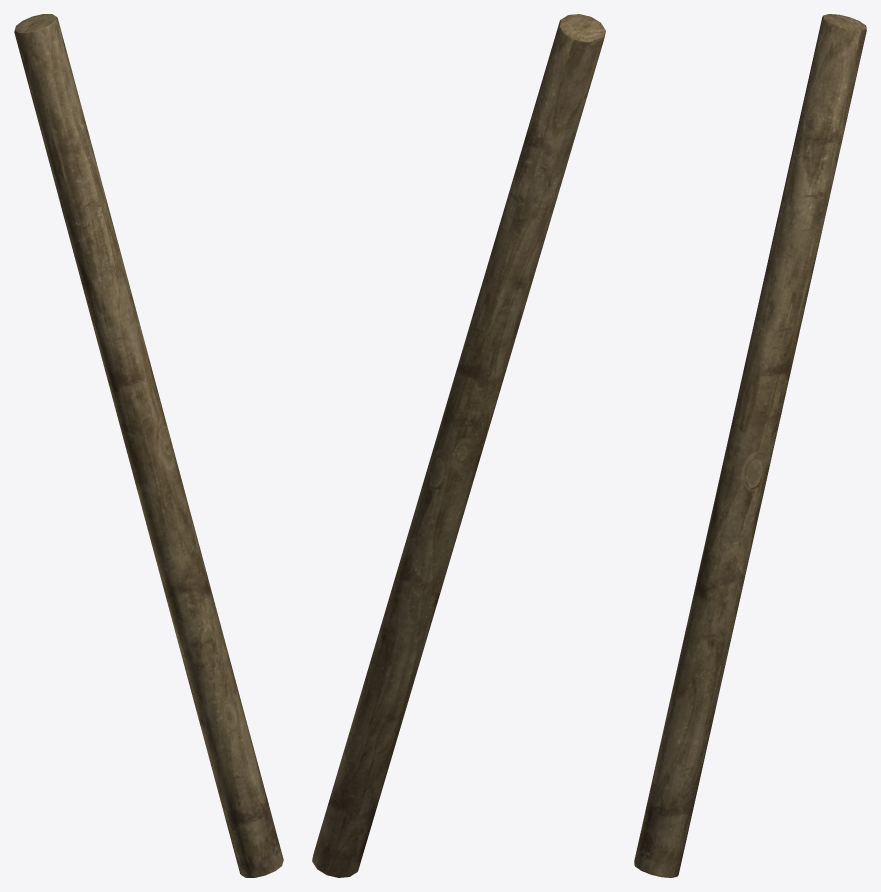
3 renders of one model, left to right at view 1: azimuth 30°, elevation 25°; view 2: azimuth 210°, elevation 25°; view 3: azimuth 270°, elevation 25°, orthographic. The views are drawn at different scales.
Parts seen in each view (by area): view 1: Cylinder004_Material_0_0; view 2: Cylinder004_Material_0_0; view 3: Cylinder004_Material_0_0.
Boxes of the visible parts, box(x1,y1,x2,y2) form: Cylinder004_Material_0_0: box(14, 14, 283, 877); Cylinder004_Material_0_0: box(312, 14, 605, 877); Cylinder004_Material_0_0: box(634, 14, 866, 877).
Size of the model in its own units: 0.5989 by 2.74 by 0.7247.
1 material, 1 textured.
